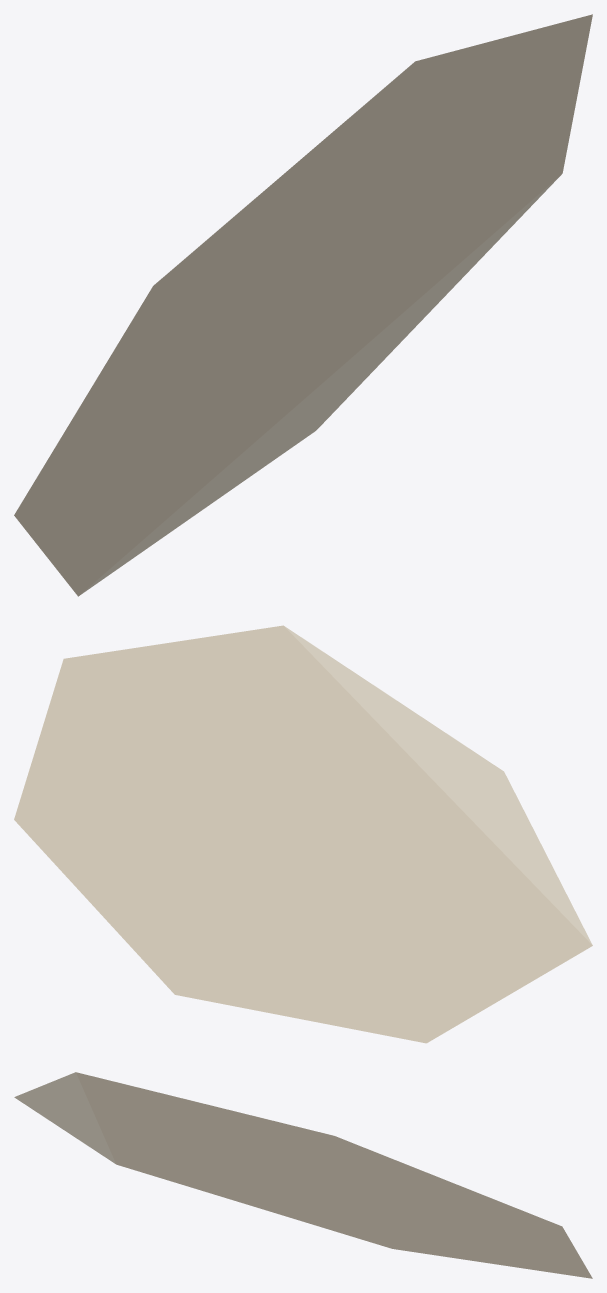
File: SM_MS3_Feed_Eco_14_0.fbx
3 renders of one model, top to bottom at view 1: azimuth 30°, elevation 25°; view 2: azimuth 150°, elevation 25°; view 3: azimuth 270°, elevation 25°, orthographic. The views are drawn at different scales.
Visible parts, largest first — view 1: SM_MS3_Feed_Eco_14_0; view 2: SM_MS3_Feed_Eco_14_0; view 3: SM_MS3_Feed_Eco_14_0.
Boxes of the visible parts, x1,y1,x2,y2 form: SM_MS3_Feed_Eco_14_0: (14, 14, 592, 596); SM_MS3_Feed_Eco_14_0: (14, 625, 592, 1043); SM_MS3_Feed_Eco_14_0: (14, 1072, 592, 1278).
Bounding box in the file's own units: 2.87 × 2.48 × 1.69.
